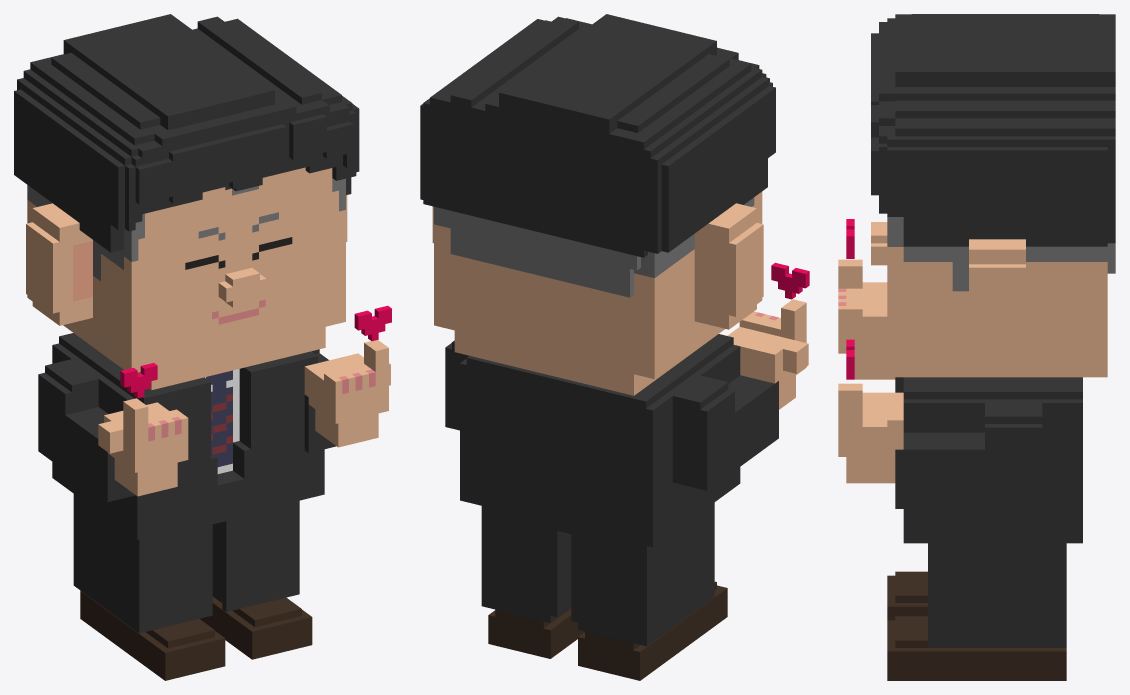
Rendered from voxel_heart.glb.
3 renders of one model, left to right at view 1: azimuth 30°, elevation 25°; view 2: azimuth 150°, elevation 25°; view 3: azimuth 270°, elevation 25°, orthographic. The views are drawn at different scales.
Parts seen in each view (by area): view 1: Object_2; view 2: Object_2; view 3: Object_2.
Part boxes in pixels (x1,y1,x2,y2): Object_2: (14,14,391,680); Object_2: (420,14,809,680); Object_2: (838,14,1115,680).
Size of the model in its own units: 0.5945 by 1.08 by 0.4594.
Materials: 1 (1 with a texture image).
